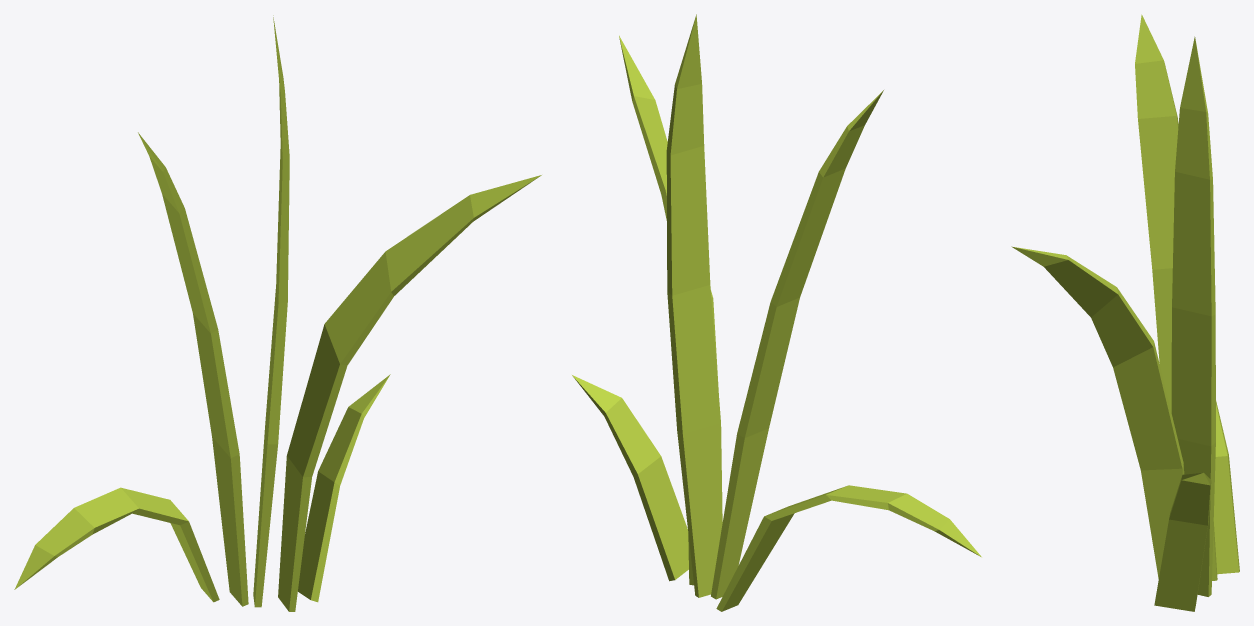
File: grass_02.fbx
3 renders of one model, left to right at view 1: azimuth 30°, elevation 25°; view 2: azimuth 150°, elevation 25°; view 3: azimuth 270°, elevation 25°, orthographic. The views are drawn at different scales.
Parts seen in each view (by area): view 1: grass_002; view 2: grass_002; view 3: grass_002.
Boxes of the visible parts, bbox=[...] form: grass_002: bbox=[14, 15, 541, 611]; grass_002: bbox=[572, 14, 981, 611]; grass_002: bbox=[1011, 14, 1239, 611].
Size of the model in its own units: 64.42 by 80.46 by 29.48.
